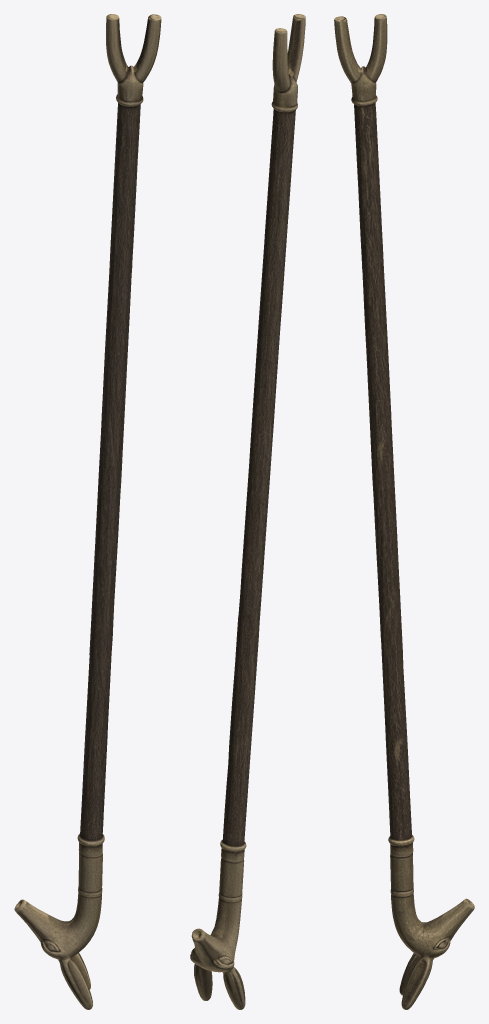
The model's file is Anpu_Prop_WasSceptre.fbx.
3 renders of one model, left to right at view 1: azimuth 90°, elevation 25°; view 2: azimuth 150°, elevation 25°; view 3: azimuth 270°, elevation 25°, orthographic. The views are drawn at different scales.
Parts seen in each view (by area): view 1: Prop_WasSceptre; view 2: Prop_WasSceptre; view 3: Prop_WasSceptre.
Boxes of the visible parts, x1,y1,x2,y2 form: Prop_WasSceptre: (14,14,161,1009); Prop_WasSceptre: (190,14,305,1009); Prop_WasSceptre: (334,14,474,1009).
Bounding box in the file's own units: 0.1672 × 2.1 × 0.2774.
1 material, 1 textured.
